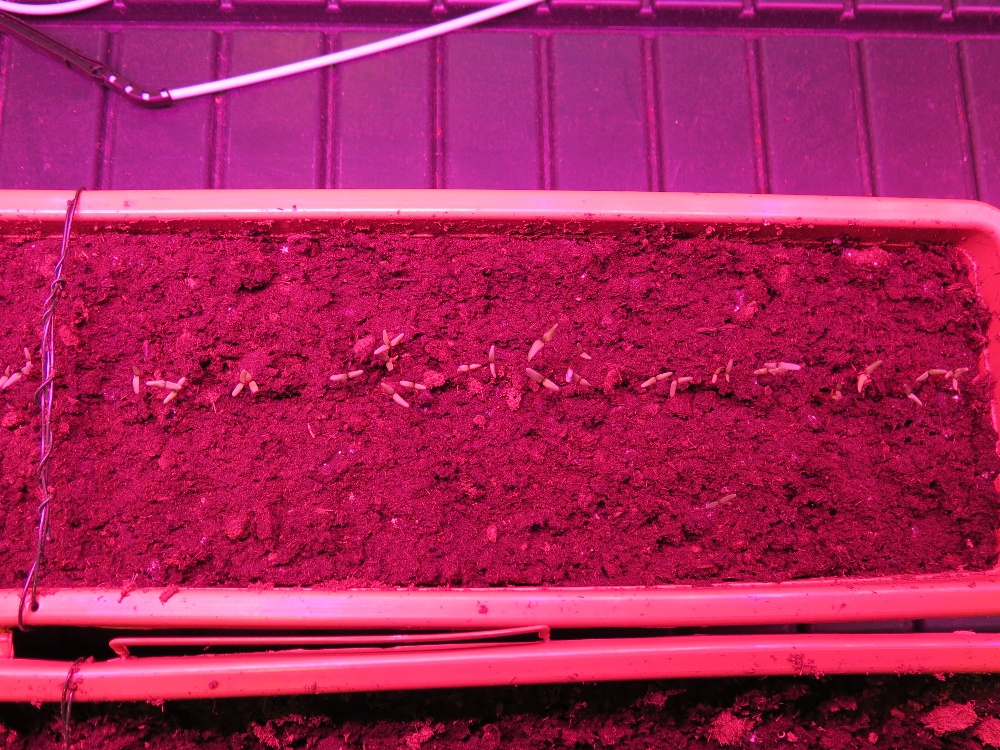crop: (751, 355, 801, 384), (526, 321, 558, 363), (231, 366, 261, 403), (374, 381, 412, 409), (853, 360, 885, 393), (372, 327, 407, 356), (524, 366, 560, 393), (146, 371, 183, 395), (909, 366, 955, 382), (639, 368, 671, 390), (669, 375, 694, 399), (328, 367, 364, 383), (902, 383, 923, 407), (950, 367, 966, 395), (486, 342, 497, 381), (398, 378, 427, 391), (455, 361, 482, 374), (130, 364, 140, 394), (724, 358, 734, 383), (711, 366, 722, 385)
